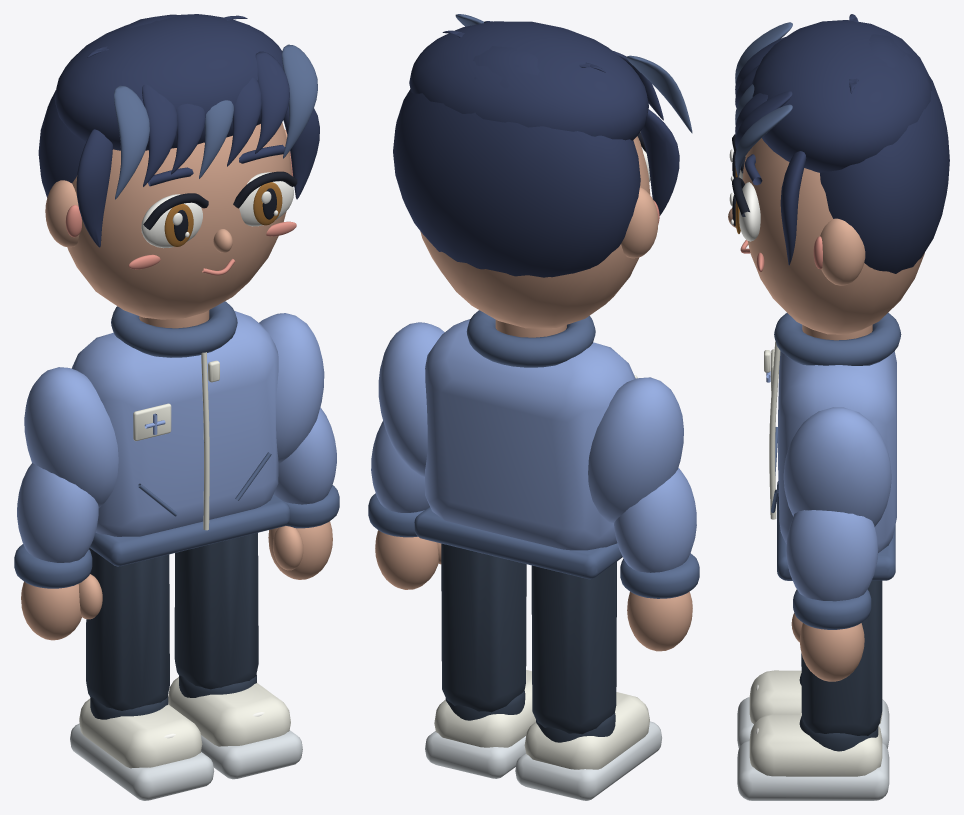
File: kai.glb
3 renders of one model, left to right at view 1: azimuth 30°, elevation 25°; view 2: azimuth 150°, elevation 25°; view 3: azimuth 270°, elevation 25°, orthographic.
Visible parts, largest first — view 1: Jacket torso, Head, Crown hair, Tapered jogger leg.001, Tapered jogger leg, Jacket sleeve, Lower sleeve, Jacket sleeve.001, Ivory sneaker, Ivory sneaker.001, Jacket hem, Sneaker sole (+31 smaller); view 2: Back hair, Jacket torso, Crown hair, Tapered jogger leg, Tapered jogger leg.001, Jacket sleeve, Head, Jacket sleeve.001, Lower sleeve, Jacket hem, Ivory sneaker, Standing jacket collar (+14 smaller); view 3: Crown hair, Back hair, Head, Jacket sleeve.001, Jacket torso, Lower sleeve.001, Tapered jogger leg.001, Ivory sneaker.001, Sneaker sole.001, Standing jacket collar, Hand.001, Ear.001 (+14 smaller).
Boxes of the visible parts, x1,y1,x2,y2 form: Jacket torso: (71, 311, 278, 536); Head: (67, 122, 291, 319); Crown hair: (54, 14, 283, 150); Tapered jogger leg.001: (174, 533, 258, 689); Tapered jogger leg: (86, 548, 169, 710); Jacket sleeve: (24, 367, 118, 507); Lower sleeve: (17, 463, 98, 562); Jacket sleeve.001: (259, 313, 324, 463); Ivory sneaker: (79, 698, 202, 768); Ivory sneaker.001: (168, 677, 290, 746); Jacket hem: (90, 494, 290, 566); Sneaker sole: (70, 723, 214, 800); Back hair: (393, 46, 640, 277); Jacket torso: (425, 319, 635, 550); Crown hair: (409, 21, 648, 140); Tapered jogger leg: (531, 562, 616, 734); Tapered jogger leg.001: (441, 543, 526, 712); Jacket sleeve: (588, 377, 683, 523); Head: (420, 136, 650, 328); Jacket sleeve.001: (378, 322, 444, 477); Lower sleeve: (614, 468, 696, 572); Jacket hem: (414, 507, 622, 579); Ivory sneaker: (524, 692, 649, 769); Standing jacket collar: (466, 310, 595, 367); Crown hair: (752, 20, 932, 172); Back hair: (820, 34, 949, 273); Head: (742, 138, 924, 334); Jacket sleeve.001: (783, 407, 891, 526); Jacket torso: (778, 351, 896, 552); Lower sleeve.001: (786, 510, 878, 601); Tapered jogger leg.001: (801, 580, 882, 735); Ivory sneaker.001: (749, 714, 882, 776); Sneaker sole.001: (737, 740, 889, 800); Standing jacket collar: (774, 312, 901, 365); Hand.001: (799, 623, 864, 681); Ear.001: (820, 218, 865, 285).
Bounding box in the file's own units: 1.35 × 2.95 × 0.82.
